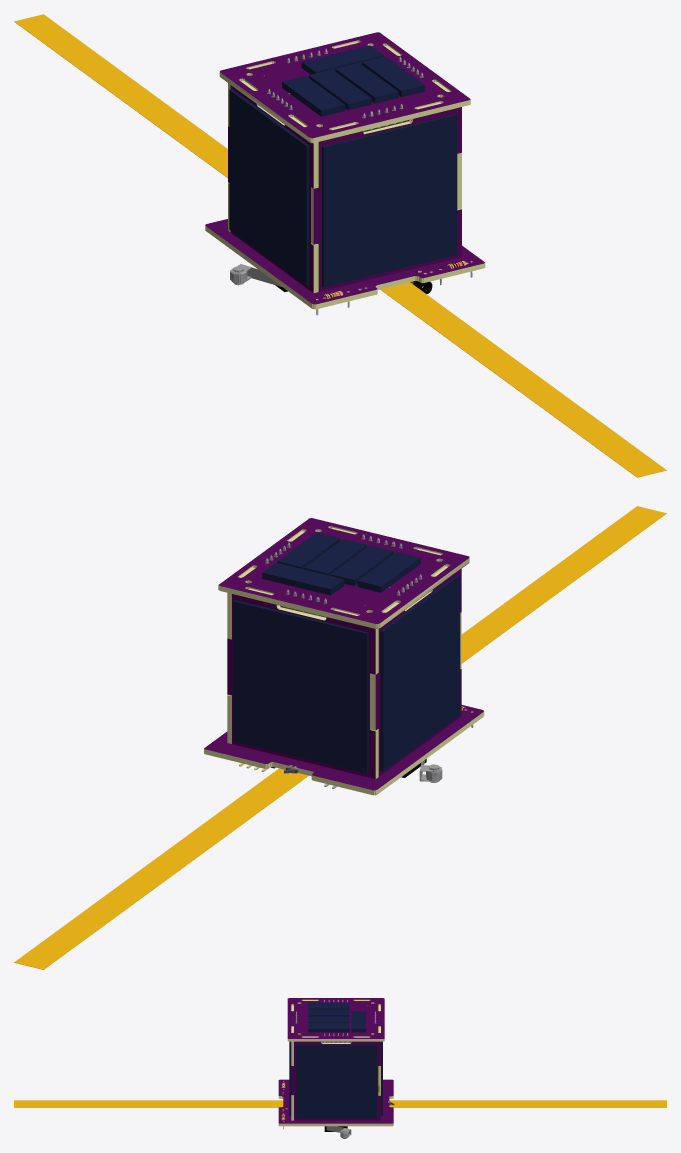
File: edusat.c91afb80.glb
3 views of the same model, one above another, from view 1: azimuth 30°, elevation 25°; view 2: azimuth 150°, elevation 25°; view 3: azimuth 270°, elevation 25° (orthographic). The views are drawn at different scales.
Parts seen in each view (by area): view 1: Body, Antenna; view 2: Body, Antenna; view 3: Body, Antenna.
Boxes of the visible parts, <box> form: Body: <box>205,32,485,315</box>; Antenna: <box>14,14,666,477</box>; Body: <box>204,518,484,795</box>; Antenna: <box>14,506,666,969</box>; Body: <box>278,998,394,1138</box>; Antenna: <box>14,1100,666,1107</box>.
Bounding box in the file's own units: 1 × 0.8507 × 5.12.
